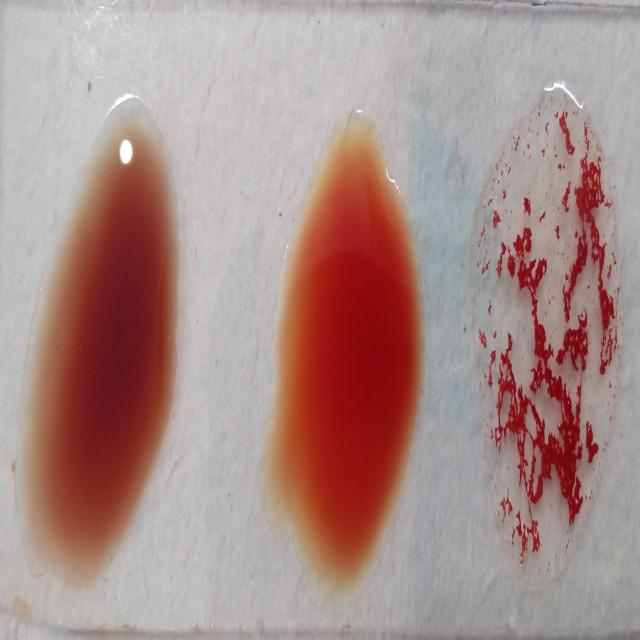D: (473, 67, 624, 581)
